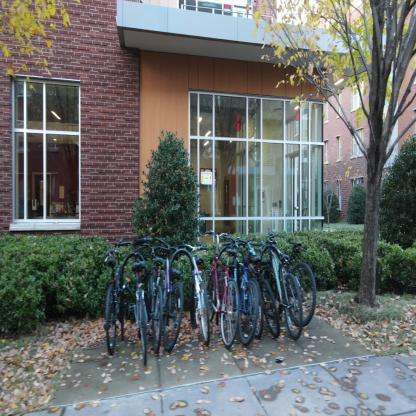Wolf Ridge: (0, 13, 396, 294)
